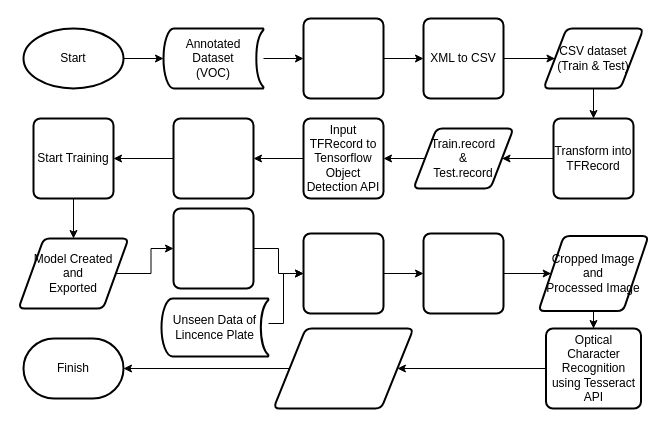
Image size: 666x426. Some labels were removed from this diagram. Here are the shapes that lost their labels. From the top down, the centre of each, then its label:
point (343, 58): Split dataset into Train and Test
point (213, 158): Configure Training Pipeline
point (213, 248): Input Object Detection model into Object Detector
point (343, 273): Detect Licence Plate Using Unseen Data
point (463, 273): Cropped detected and Preprocess Image for OCR
point (343, 368): Text Result from Licence Plate
